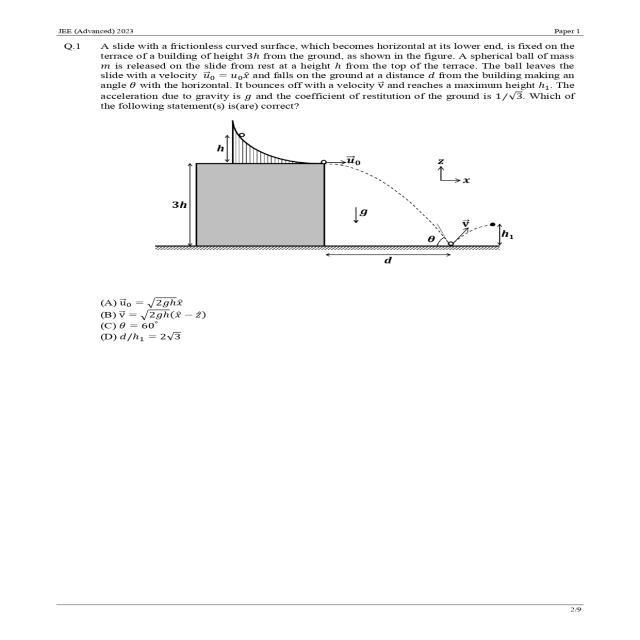Answer_Block: (47, 286, 608, 362)
Question_Answer_Block: (47, 39, 608, 366)
Question_Block: (47, 37, 608, 274)
Question_Paper_Area: (47, 39, 608, 590)
